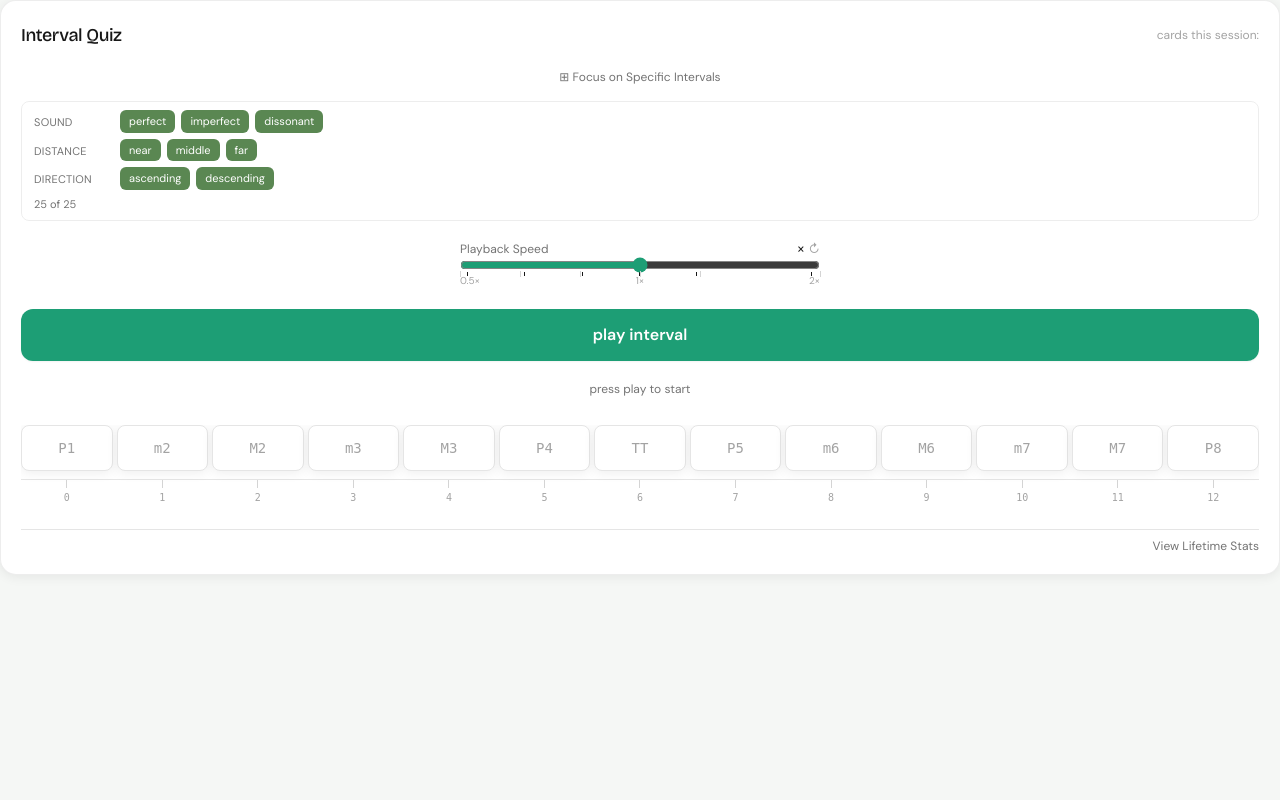
Test: the live count matches what is actually served › says so, rather than showing 0, when nothing matches
What coordinates should you click on to do the following:
click the button "perfect"
I would click on:
 (148, 121)
Its box is [120,110,175,132].
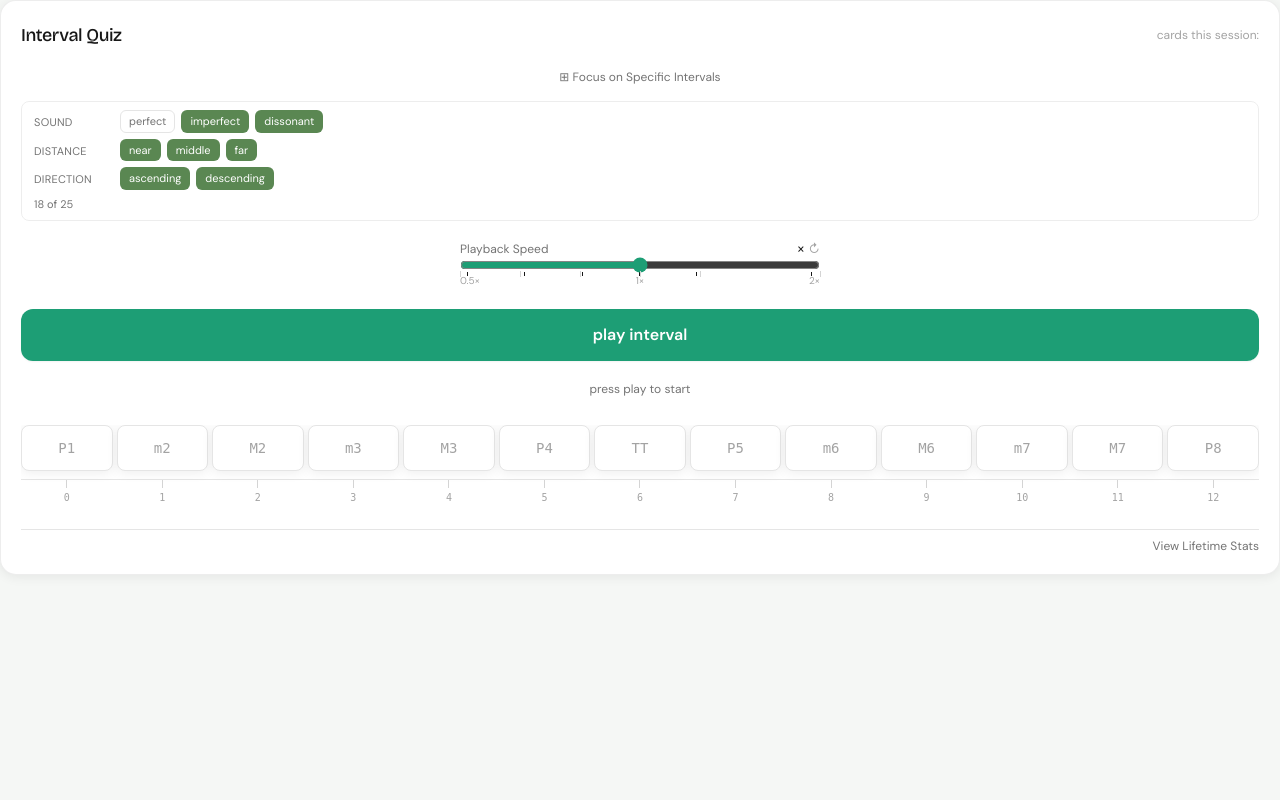
What coordinates should you click on to do the following:
click the button "dissonant"
I would click on:
 (289, 121)
Its box is [255,110,323,132].
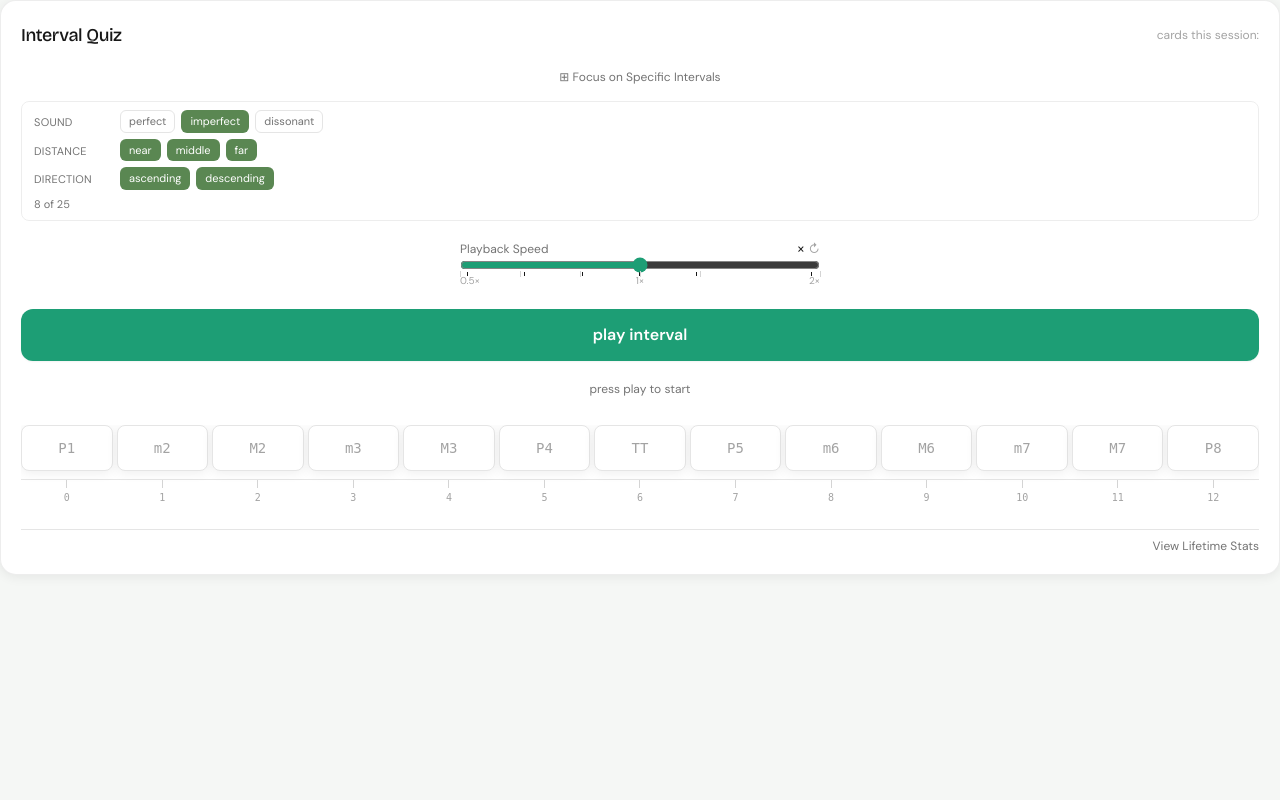
What coordinates should you click on to do the following:
click the button "near"
I would click on:
 (140, 150)
Its box is [120,138,161,161].
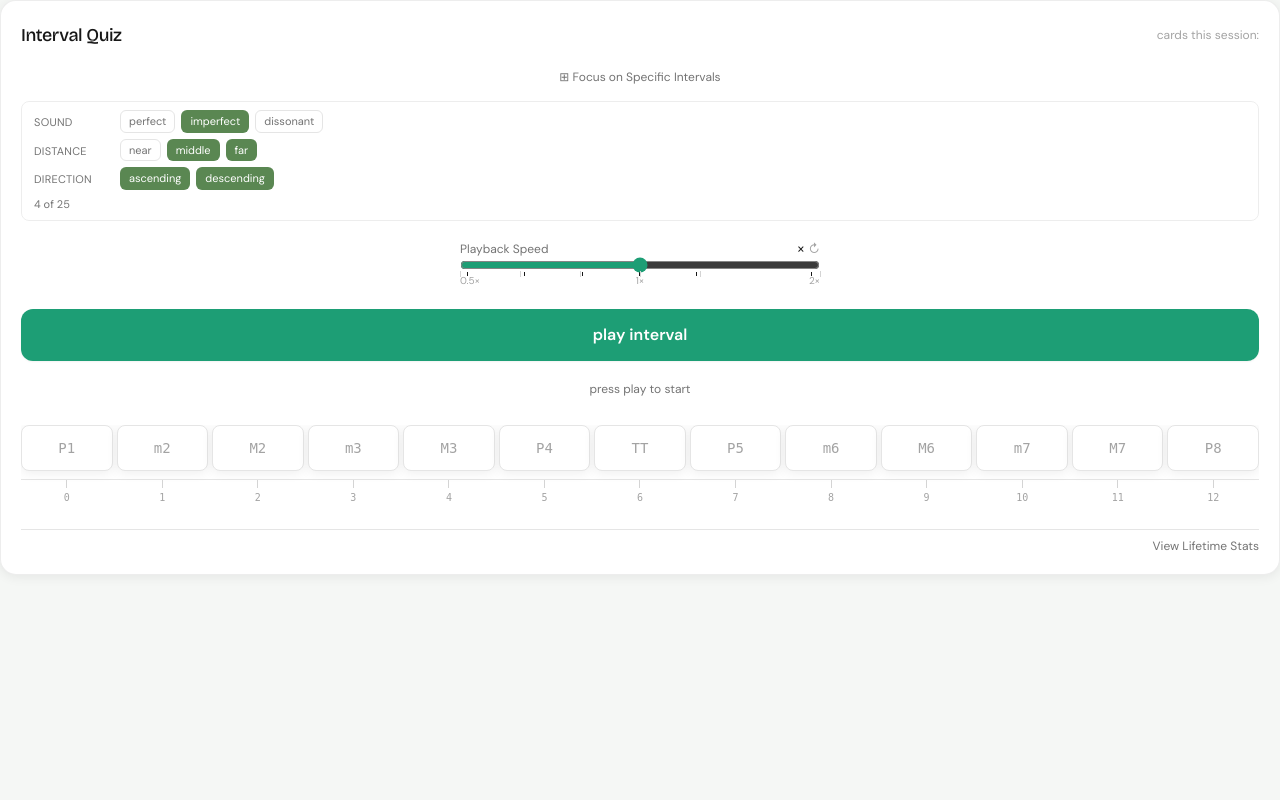
What coordinates should you click on to do the following:
click the button "far"
I would click on:
 (241, 150)
Its box is [226,138,257,161].
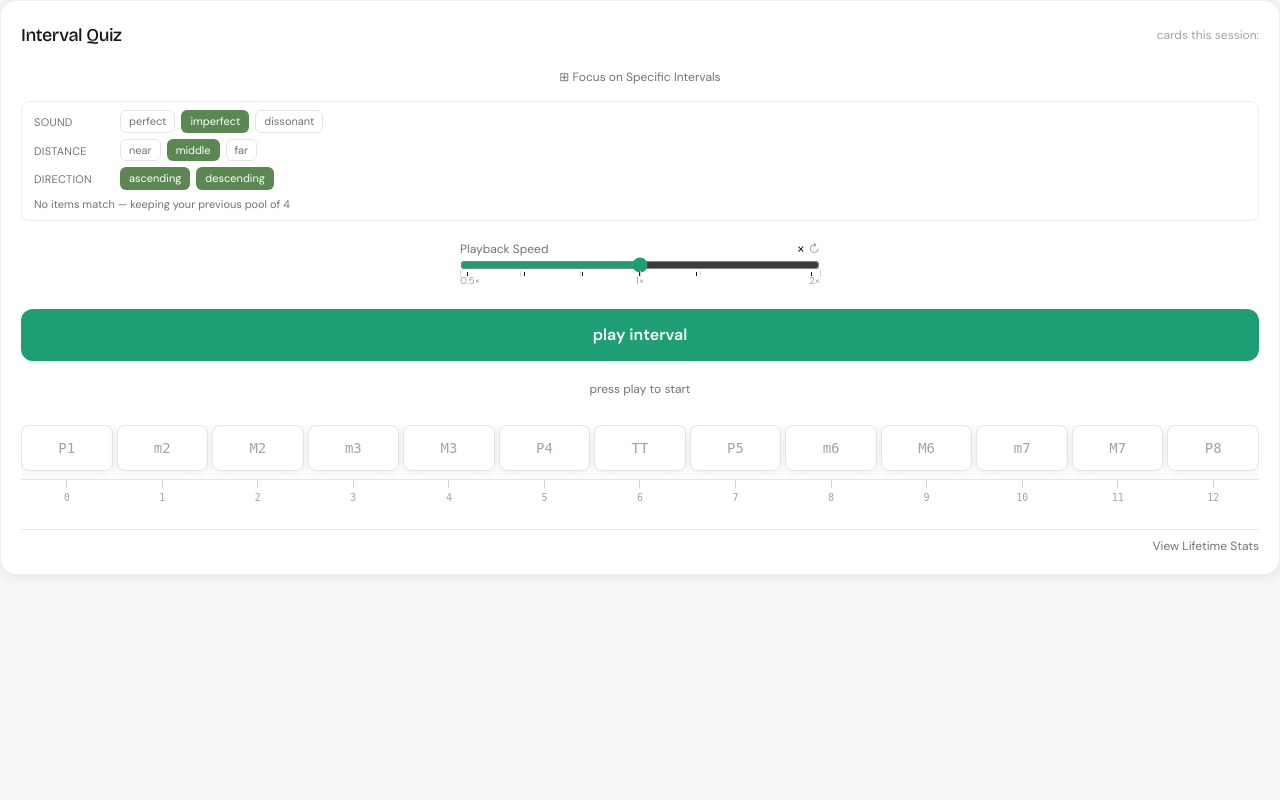
expect the text "No items match — keeping your previous pool of 4" is shown: met, box [34,196,290,210]
